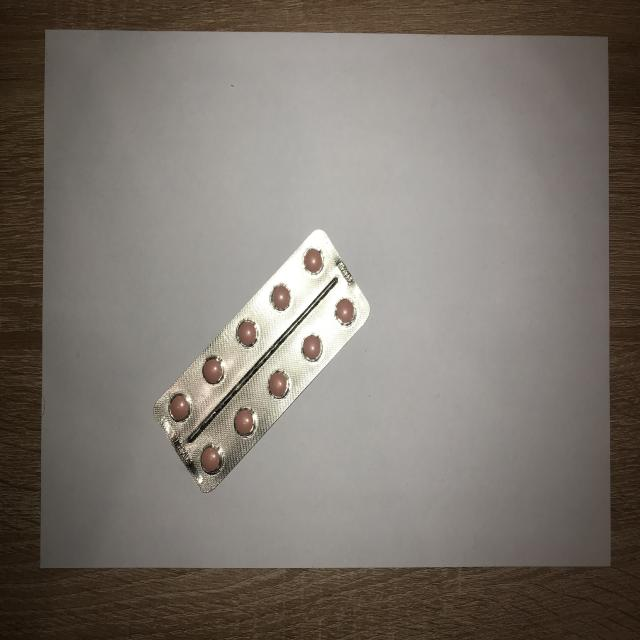tablets: (152, 223, 377, 502)
